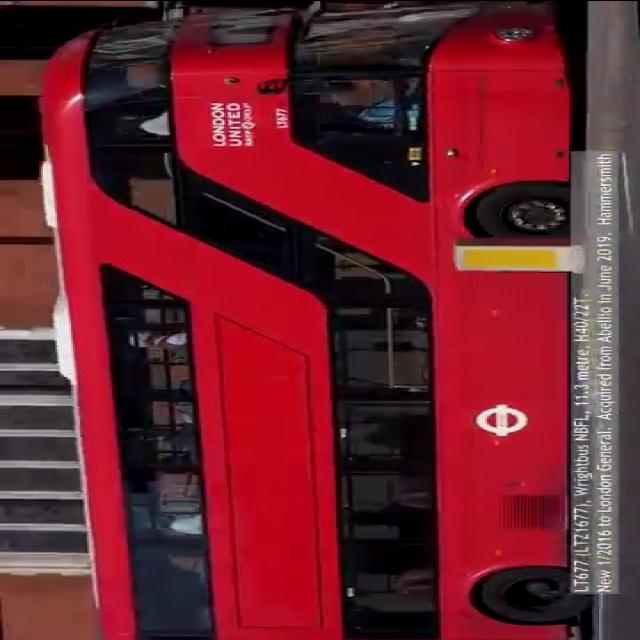bus: (66, 1, 636, 639)
